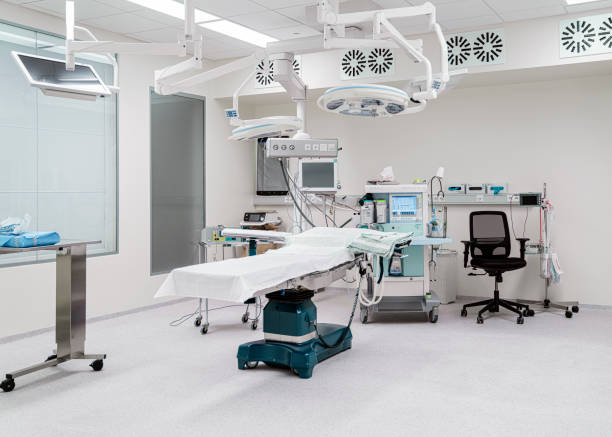bedside_monitor: (1, 49, 116, 107), (297, 157, 340, 191)
breathing_tube: (357, 274, 386, 308)
chair: (460, 208, 534, 324)
dispenser: (469, 183, 489, 195), (487, 183, 507, 195), (444, 183, 464, 195)
operating_bed: (153, 227, 371, 380)
surgical_light: (316, 83, 421, 121), (225, 108, 304, 145)
utility_cart: (1, 219, 114, 390)
ventilator: (358, 175, 445, 327)
